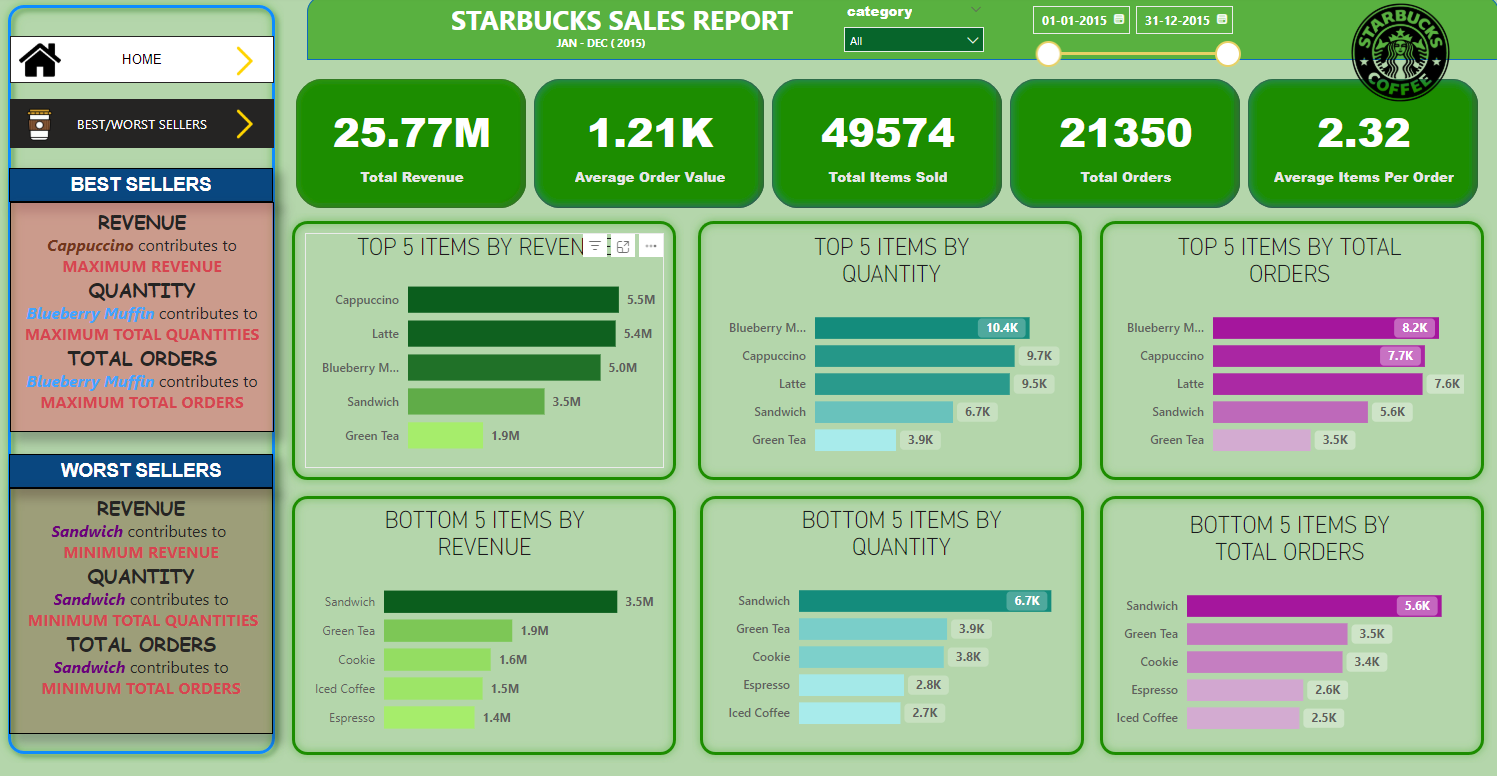

Layout of this report page (visuals, bound fields, positions):
{"tool":"powerbi","page":{"name":"BEST/WORST SELLERS","canvas":[1500,820],"ordinal":1},"visuals":[{"type":"cardVisual","fields":{"Data":["starbucks.Total Revenue","starbucks.Average Order Value","starbucks.Total Items Sold","starbucks.Total Orders","starbucks.Average Items Per Order"]},"box":[292,78,1192,139],"z":0},{"type":"shape","box":[308,0,1192,64],"z":1000},{"type":"textbox","box":[420,0,406,48],"z":2000},{"type":"textbox","box":[549,32,109,28],"z":3000},{"type":"shape","box":[0,0,285,767],"z":4000},{"type":"textbox","box":[10,172,264,34],"z":5000},{"type":"textbox","box":[11,206,264,230],"z":6000},{"type":"textbox","box":[10,458,264,34],"z":7000},{"type":"textbox","box":[10,492,264,246],"z":8000},{"type":"slicer","title":"Pizza","fields":{"Values":["starbucks.category"]},"box":[835,0,160,64],"z":9000},{"type":"slicer","title":"Pizza","fields":{"Values":["starbucks.order_date"]},"box":[1021,0,229,78],"z":10000},{"type":"shape","box":[285,217,400,275],"z":11000},{"type":"shape","box":[691,217,400,275],"z":12000},{"type":"shape","box":[1093,217,400,275],"z":13000},{"type":"shape","box":[285,492,400,275],"z":14000},{"type":"shape","box":[693,492,400,275],"z":15000},{"type":"shape","box":[1093,492,400,275],"z":16000},{"type":"barChart","title":"TOP 5 ITEMS BY REVENUE","fields":{"Category":["starbucks.product_name"],"Y":["starbucks.Total Revenue"]},"box":[306,237,359,235],"z":17000},{"type":"barChart","title":"TOP 5 ITEMS BY QUANTITY","fields":{"Category":["starbucks.product_name"],"Y":["starbucks.Total Items Sold"]},"box":[713,237,359,235],"z":18000},{"type":"barChart","title":"TOP 5 ITEMS BY TOTAL ORDERS","fields":{"Category":["starbucks.product_name"],"Y":["starbucks.Total Orders"]},"box":[1111,237,359,235],"z":19000},{"type":"barChart","title":"BOTTOM 5 ITEMS BY REVENUE","fields":{"Category":["starbucks.product_name"],"Y":["starbucks.Total Revenue"]},"box":[306,510,359,240],"z":20000},{"type":"barChart","title":"BOTTOM 5 ITEMS BY QUANTITY","fields":{"Category":["starbucks.product_name"],"Y":["starbucks.Total Items Sold"]},"box":[723,510,359,235],"z":21000},{"type":"barChart","title":"BOTTOM 5 ITEMS BY TOTAL ORDERS","fields":{"Category":["starbucks.product_name"],"Y":["starbucks.Total Orders"]},"box":[1111,515,359,235],"z":22000},{"type":"pageNavigator","box":[11,40,264,47],"z":23000},{"type":"pageNavigator","box":[11,103,264,49],"z":24000},{"type":"image","box":[214,37,61,56],"z":25000},{"type":"image","box":[214,100,61,56],"z":26000},{"type":"image","box":[1338,0,127,113],"z":27000},{"type":"image","box":[19,101,43,54],"z":28000},{"type":"image","box":[15,36,52,56],"z":28001}]}

Visuals, with their boxes on the page's 1500x820 design canvas (x1, y1, x2, y2). These are canvas units, not pixel positions in the 1497x776 screenshot, which may show the page scaled, cropped or inside an application window:
cardVisual - starbucks.Total Revenue x starbucks.Average Order Value: Rect(292, 78, 1484, 217)
shape: Rect(308, 0, 1500, 64)
textbox: Rect(420, 0, 826, 48)
textbox: Rect(549, 32, 658, 60)
shape: Rect(0, 0, 285, 767)
textbox: Rect(10, 172, 274, 206)
textbox: Rect(11, 206, 275, 436)
textbox: Rect(10, 458, 274, 492)
textbox: Rect(10, 492, 274, 738)
"Pizza" slicer: Rect(835, 0, 995, 64)
"Pizza" slicer: Rect(1021, 0, 1250, 78)
shape: Rect(285, 217, 685, 492)
shape: Rect(691, 217, 1091, 492)
shape: Rect(1093, 217, 1493, 492)
shape: Rect(285, 492, 685, 767)
shape: Rect(693, 492, 1093, 767)
shape: Rect(1093, 492, 1493, 767)
"TOP 5 ITEMS BY REVENUE" barChart: Rect(306, 237, 665, 472)
"TOP 5 ITEMS BY QUANTITY" barChart: Rect(713, 237, 1072, 472)
"TOP 5 ITEMS BY TOTAL ORDERS" barChart: Rect(1111, 237, 1470, 472)
"BOTTOM 5 ITEMS BY REVENUE" barChart: Rect(306, 510, 665, 750)
"BOTTOM 5 ITEMS BY QUANTITY" barChart: Rect(723, 510, 1082, 745)
"BOTTOM 5 ITEMS BY TOTAL ORDERS" barChart: Rect(1111, 515, 1470, 750)
pageNavigator: Rect(11, 40, 275, 87)
pageNavigator: Rect(11, 103, 275, 152)
image: Rect(214, 37, 275, 93)
image: Rect(214, 100, 275, 156)
image: Rect(1338, 0, 1465, 113)
image: Rect(19, 101, 62, 155)
image: Rect(15, 36, 67, 92)
